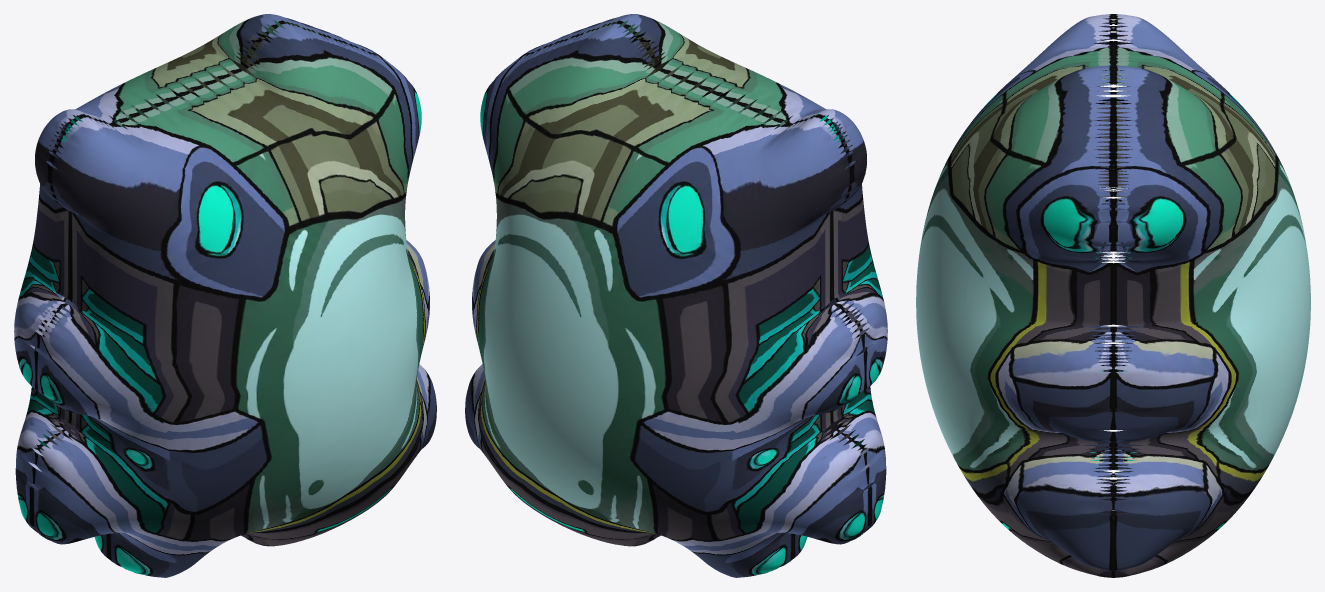
Rendered from portal_machine.glb.
3 views of the same model, side by side, from view 1: azimuth 30°, elevation 25°; view 2: azimuth 150°, elevation 25°; view 3: azimuth 270°, elevation 25° (orthographic).
Visible parts, largest first — view 1: portal_machine; view 2: portal_machine; view 3: portal_machine.
Part boxes in pixels (x1,y1,x2,y2): portal_machine: (14, 14, 436, 577); portal_machine: (465, 14, 887, 577); portal_machine: (916, 14, 1310, 577).
Bounding box in the file's own units: 0.986 × 1.25 × 0.8846.
1 material, 1 textured.
